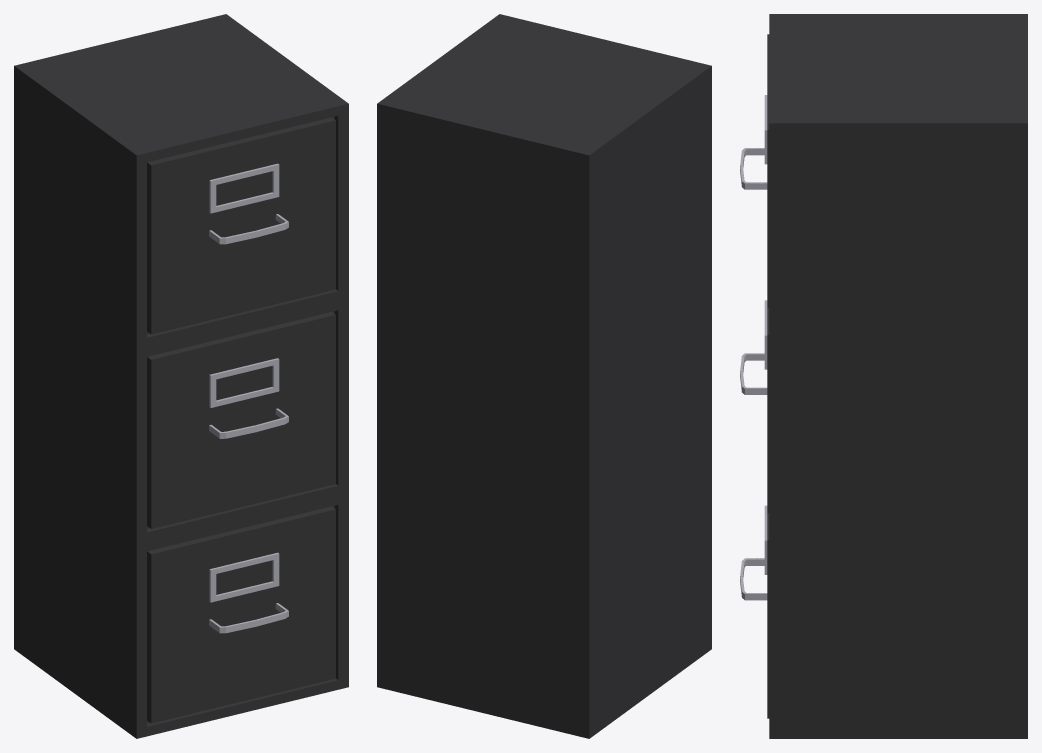
File: Filing Cabinet 3.fbx
The picture shows the model from 3 angles, left to right: view 1: azimuth 30°, elevation 25°; view 2: azimuth 150°, elevation 25°; view 3: azimuth 270°, elevation 25°; orthographic projection. The views are drawn at different scales.
Visible parts, largest first — view 1: Filing Cabinet 3; view 2: Filing Cabinet 3; view 3: Filing Cabinet 3.
Boxes of the visible parts, bbox=[...] form: Filing Cabinet 3: bbox=[14, 14, 348, 738]; Filing Cabinet 3: bbox=[377, 14, 711, 738]; Filing Cabinet 3: bbox=[740, 14, 1027, 738].
Size of the model in its own units: 50 by 131 by 55.65.
1 material, 1 textured.
